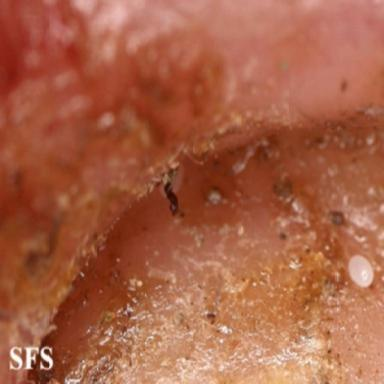Tungiasis: (162, 169, 179, 215)
